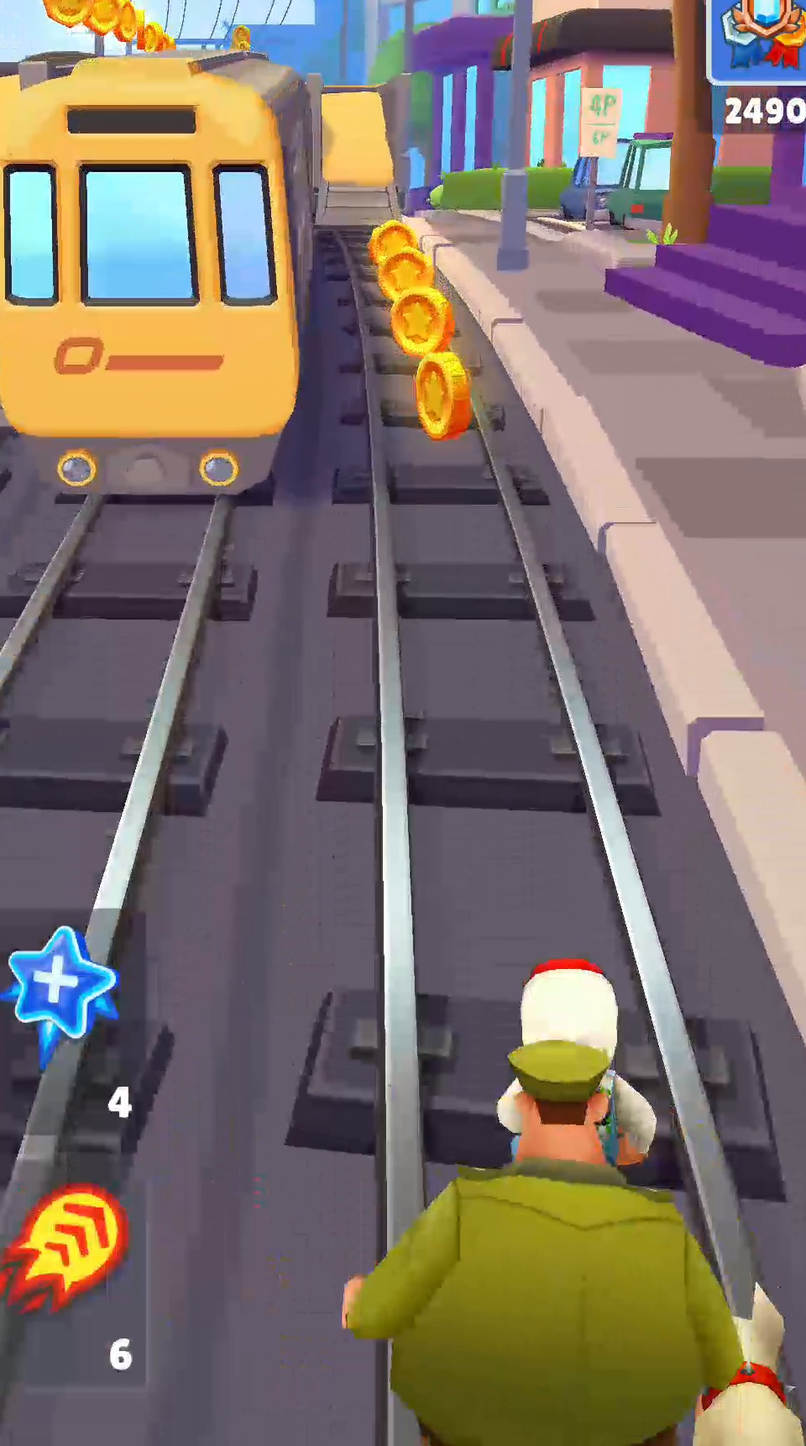climber: (316, 90, 399, 228)
police: (342, 1004, 741, 1445)
train: (0, 48, 319, 500)
